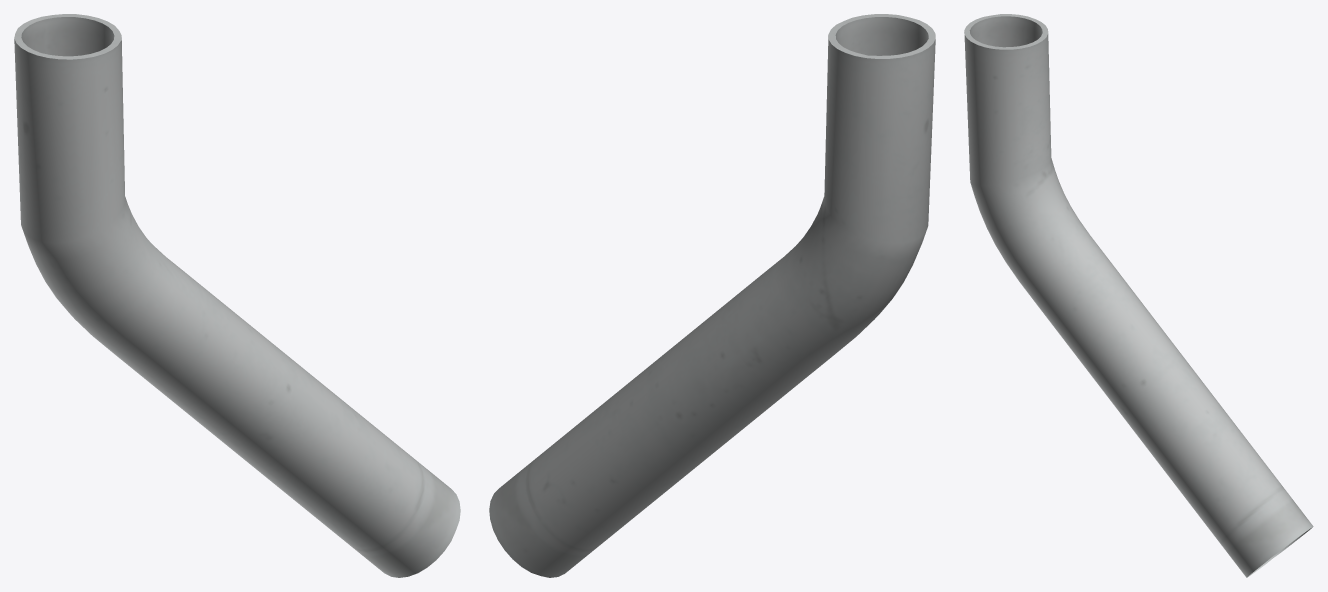
Rendered from vacuum.dae.
3 views of the same model, side by side, from view 1: azimuth 30°, elevation 25°; view 2: azimuth 150°, elevation 25°; view 3: azimuth 330°, elevation 25° (orthographic). The views are drawn at different scales.
Parts seen in each view (by area): view 1: shlang_brush_low_Saturnas_second_0; view 2: shlang_brush_low_Saturnas_second_0; view 3: shlang_brush_low_Saturnas_second_0.
Part boxes in pixels (x1,y1,x2,y2): shlang_brush_low_Saturnas_second_0: (14, 14, 460, 577); shlang_brush_low_Saturnas_second_0: (489, 14, 935, 577); shlang_brush_low_Saturnas_second_0: (964, 14, 1313, 577).
Bounding box in the file's own units: 0.1758 × 0.0386 × 0.2402.
1 material, 1 textured.
